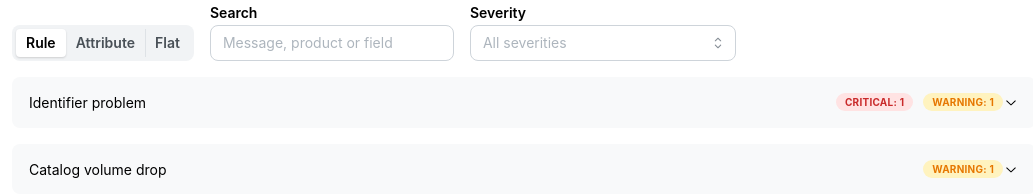
FindingsExplorer › filters by free text search
Type "dropped" into the field labelled "Search" at (332, 43), box [210, 25, 454, 61]
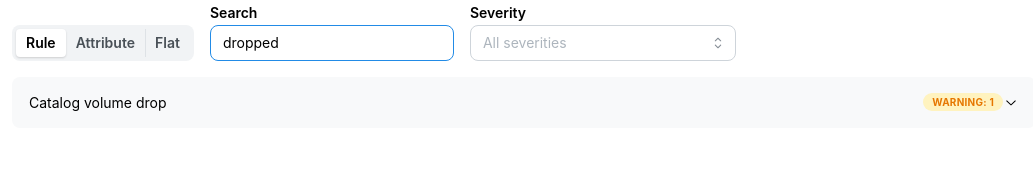
Expected: the text "Catalog volume drop" is shown, [29, 94, 166, 111]
Expected: the button "Identifier problem" is gone
